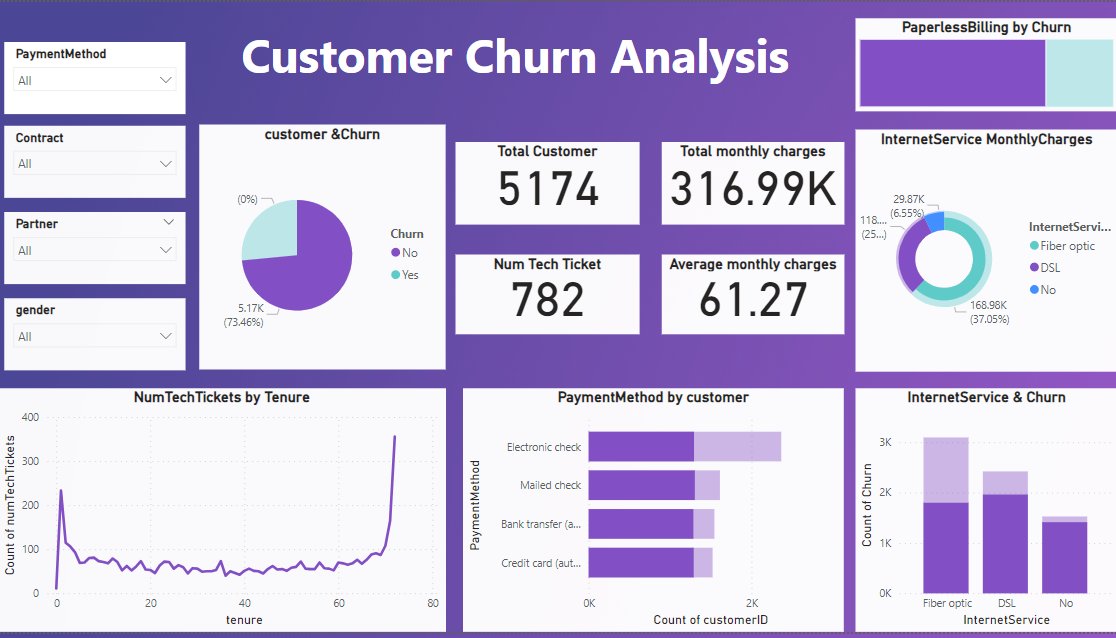

Layout of this report page (visuals, bound fields, positions):
{"tool":"powerbi","page":{"name":"Page 1","canvas":[1280,720],"ordinal":0},"visuals":[{"type":"pieChart","title":"customer &Churn","fields":{"Y":["CountNonNull(01 Churn-Dataset.customerID)"],"Category":["01 Churn-Dataset.Churn"]},"box":[230,140,281.7,280],"z":0},{"type":"lineChart","title":"NumTechTickets by Tenure","fields":{"Category":["01 Churn-Dataset.tenure"],"Y":["CountNonNull(01 Churn-Dataset.numTechTickets)"]},"box":[0,441.7,511.7,278.3],"z":1000},{"type":"clusteredBarChart","title":"PaymentMethod by customer","fields":{"Category":["01 Churn-Dataset.PaymentMethod"],"Y":["CountNonNull(01 Churn-Dataset.customerID)"]},"box":[531.7,441.7,435,278.3],"z":2000},{"type":"slicer","fields":{"Values":["01 Churn-Dataset.PaymentMethod"]},"box":[7.2,45.5,206.8,82.5],"z":3000},{"type":"slicer","fields":{"Values":["01 Churn-Dataset.Contract"]},"box":[7.2,140.8,206.8,82.5],"z":4000},{"type":"slicer","fields":{"Values":["01 Churn-Dataset.Partner"]},"box":[7.2,239.6,206.8,82.5],"z":5000},{"type":"slicer","fields":{"Values":["01 Churn-Dataset.gender"]},"box":[7.2,338.4,206.8,82.5],"z":6000},{"type":"card","title":"Num Tech Ticket","fields":{"Values":["Sum(01 Churn-Dataset.numTechTickets)"]},"box":[522.9,288.6,210,91.4],"z":7000},{"type":"card","title":"Total Customer","fields":{"Values":["CountNonNull(01 Churn-Dataset.total customer)"]},"box":[522.9,160,210,94.3],"z":8000},{"type":"card","title":"Total monthly charges","fields":{"Values":["Sum(01 Churn-Dataset.MonthlyCharges)"]},"box":[758.6,160,208.6,94.3],"z":9000},{"type":"card","title":"Average monthly charges","fields":{"Values":["Avg(01 Churn-Dataset.MonthlyCharges)"]},"box":[758.6,288.6,208.6,91.4],"z":10000},{"type":"columnChart","title":"InternetService & Churn","fields":{"Category":["01 Churn-Dataset.InternetService"],"Y":["CountNonNull(01 Churn-Dataset.Churn)"]},"box":[980,441.7,300,278.3],"z":11000},{"type":"donutChart","title":"InternetService  MonthlyCharges ","fields":{"Y":["Sum(01 Churn-Dataset.MonthlyCharges)"],"Category":["01 Churn-Dataset.InternetService"]},"box":[980,145.7,300,277.1],"z":12000},{"type":"treemap","title":"PaperlessBilling by Churn","fields":{"Group":["01 Churn-Dataset.Churn"],"Values":["CountNonNull(01 Churn-Dataset.PaperlessBilling)"]},"box":[980,18.3,300,106.7],"z":13000},{"type":"textbox","box":[273.3,18.3,665,121.7],"z":14000}]}

Visuals, with their boxes in screenshot pixels (x1, y1, x2, y2), scaled from the page's 1280x720 canvas onto the 1116x638 screenshot:
"customer &Churn" pieChart: (201,124,446,372)
"NumTechTickets by Tenure" lineChart: (0,391,446,637)
"PaymentMethod by customer" clusteredBarChart: (464,391,843,637)
slicer - 01 Churn-Dataset.PaymentMethod: (6,40,187,113)
slicer - 01 Churn-Dataset.Contract: (6,125,187,198)
slicer - 01 Churn-Dataset.Partner: (6,212,187,285)
slicer - 01 Churn-Dataset.gender: (6,300,187,373)
"Num Tech Ticket" card: (456,256,639,337)
"Total Customer" card: (456,142,639,225)
"Total monthly charges" card: (661,142,843,225)
"Average monthly charges" card: (661,256,843,337)
"InternetService & Churn" columnChart: (854,391,1115,637)
"InternetService  MonthlyCharges " donutChart: (854,129,1115,375)
"PaperlessBilling by Churn" treemap: (854,16,1115,111)
textbox: (238,16,818,124)
